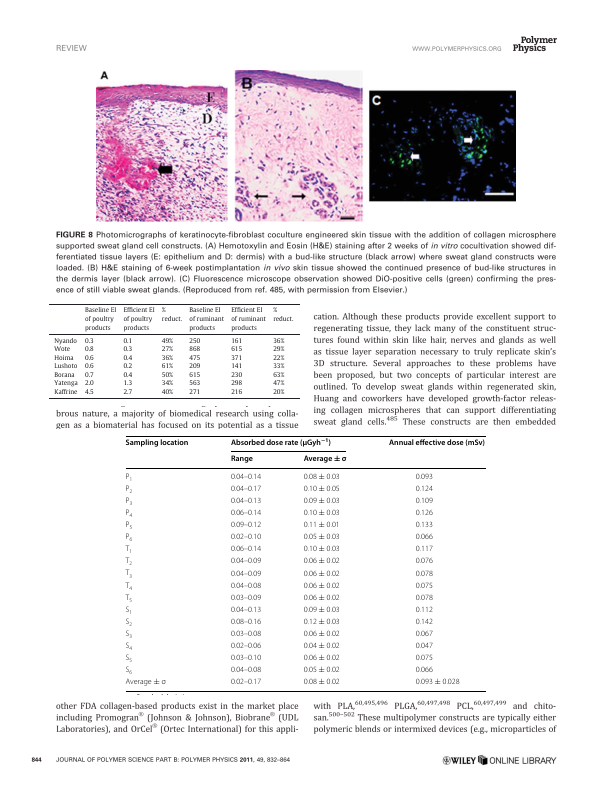borderless: (124, 434, 486, 691), (48, 302, 300, 398)
cell: (230, 437, 332, 448), (388, 438, 486, 448), (188, 307, 225, 332), (230, 307, 267, 332), (84, 307, 117, 332), (123, 307, 156, 332), (125, 438, 189, 448), (303, 454, 347, 464), (415, 678, 461, 687), (124, 678, 167, 687), (303, 472, 341, 482), (303, 484, 341, 494), (303, 593, 341, 603), (303, 605, 341, 615), (272, 307, 295, 323), (161, 307, 183, 323), (303, 497, 341, 506), (303, 509, 341, 518), (303, 521, 341, 530), (303, 533, 341, 542), (303, 545, 341, 554), (303, 557, 341, 566), (303, 569, 341, 578), (303, 581, 341, 590), (303, 618, 341, 627), (303, 630, 341, 639), (303, 642, 341, 651), (303, 654, 341, 663), (303, 666, 341, 675), (303, 678, 341, 687), (230, 472, 262, 482), (230, 484, 262, 494), (230, 593, 262, 603), (230, 605, 262, 615), (230, 497, 262, 506), (230, 509, 262, 518), (230, 521, 262, 530), (230, 533, 262, 542), (230, 545, 262, 554), (230, 557, 262, 566), (230, 569, 262, 578), (230, 581, 262, 590), (230, 618, 262, 627), (230, 630, 262, 639), (230, 642, 262, 651), (230, 654, 262, 663), (230, 666, 262, 675), (230, 678, 262, 687), (230, 454, 254, 464), (53, 388, 79, 397), (53, 362, 78, 371), (53, 380, 79, 388), (53, 337, 78, 345), (415, 472, 434, 482), (415, 484, 434, 494), (415, 593, 434, 603), (415, 605, 434, 615), (53, 371, 76, 379), (53, 354, 75, 362), (415, 497, 434, 506), (415, 509, 434, 518), (415, 521, 434, 530), (415, 533, 434, 542), (415, 545, 434, 554), (415, 557, 434, 566), (415, 569, 434, 578), (415, 581, 434, 590), (415, 618, 434, 627), (415, 630, 434, 639), (415, 642, 434, 651), (415, 654, 434, 663), (415, 666, 434, 675), (53, 345, 71, 354), (161, 345, 174, 354), (188, 345, 201, 354), (230, 345, 243, 354), (272, 345, 285, 354), (161, 362, 174, 371), (188, 362, 201, 371), (230, 362, 243, 371), (272, 362, 285, 371), (161, 388, 174, 397), (188, 388, 201, 397), (230, 388, 243, 397), (272, 388, 285, 397), (161, 337, 174, 345), (188, 337, 201, 345), (230, 337, 243, 345), (272, 337, 285, 345), (161, 354, 174, 362), (188, 354, 201, 362), (230, 354, 243, 362), (272, 354, 285, 362), (161, 371, 174, 379), (188, 371, 201, 379), (230, 371, 243, 379), (272, 371, 285, 379), (161, 380, 174, 388), (188, 380, 201, 388), (230, 380, 243, 388), (272, 380, 285, 388), (124, 545, 133, 556), (124, 557, 133, 568), (124, 569, 133, 580), (124, 581, 133, 592), (124, 593, 133, 604), (124, 605, 133, 616), (124, 654, 133, 665), (124, 666, 133, 677), (84, 345, 95, 354), (84, 362, 95, 371), (84, 388, 95, 397), (124, 618, 133, 628), (124, 630, 133, 640), (124, 642, 133, 652), (123, 345, 133, 354), (123, 362, 133, 371), (123, 388, 133, 397), (125, 472, 133, 483), (125, 484, 133, 495), (125, 533, 133, 544), (84, 337, 95, 345), (84, 354, 95, 362), (84, 371, 95, 379), (84, 380, 95, 388), (125, 497, 133, 507), (125, 509, 133, 519), (125, 521, 133, 531), (123, 337, 133, 345), (123, 354, 133, 362), (123, 371, 133, 379), (123, 380, 133, 388)
